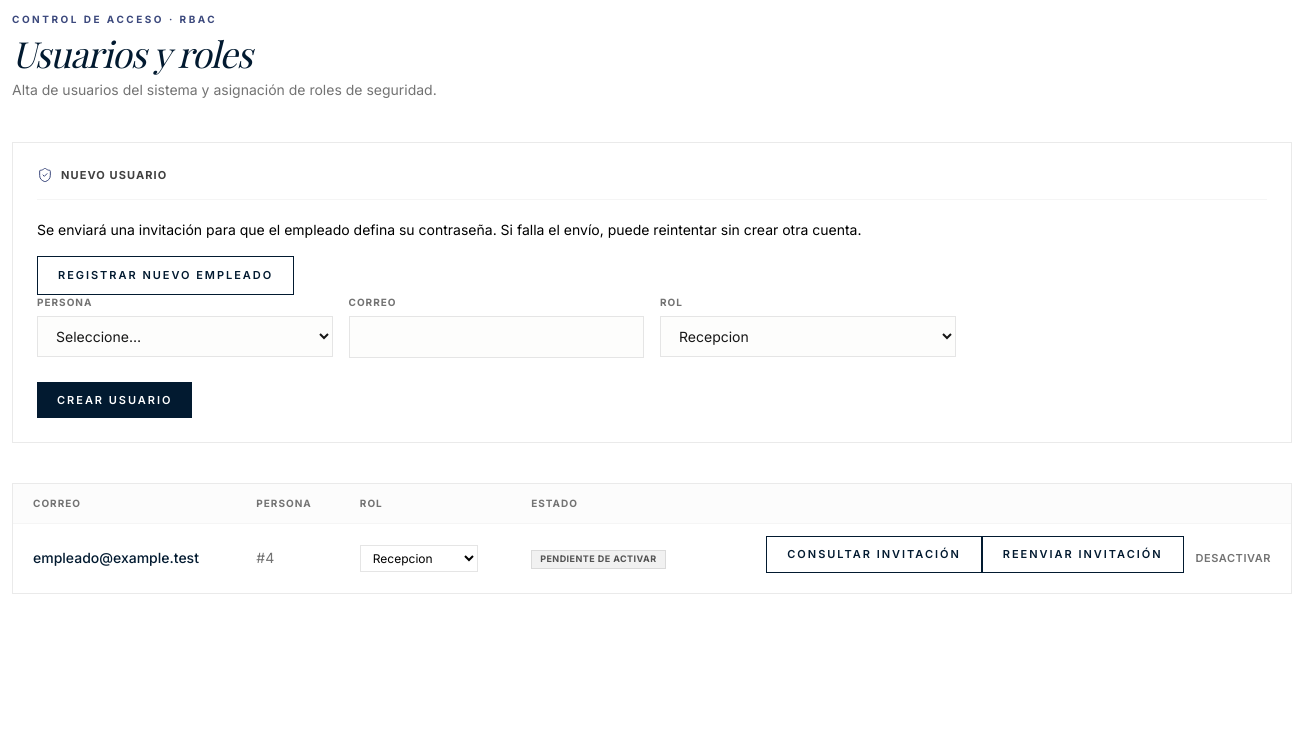
Test case: Administración invita al personal sin definir contraseñas › consulta estado y reenvía invitación sin crear otra cuenta
The image size is (1292, 732).
Click the button "Consultar invitación". click: point(874, 554)
box: [766, 536, 982, 573]
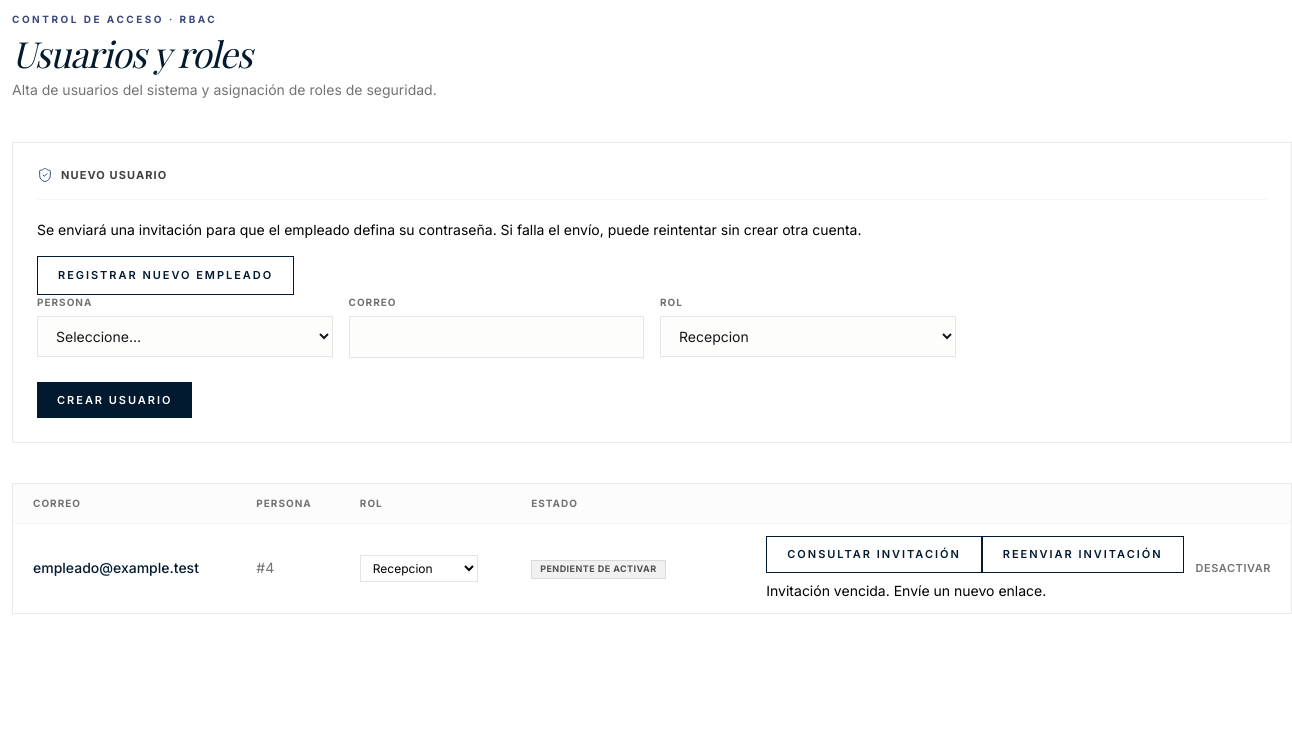
Expected: the text "Invitación vencida. Envíe un nuevo enlace." is shown, [766, 582, 1046, 599]
Click the button "Reenviar invitación". click: point(1083, 554)
box: [982, 536, 1184, 573]
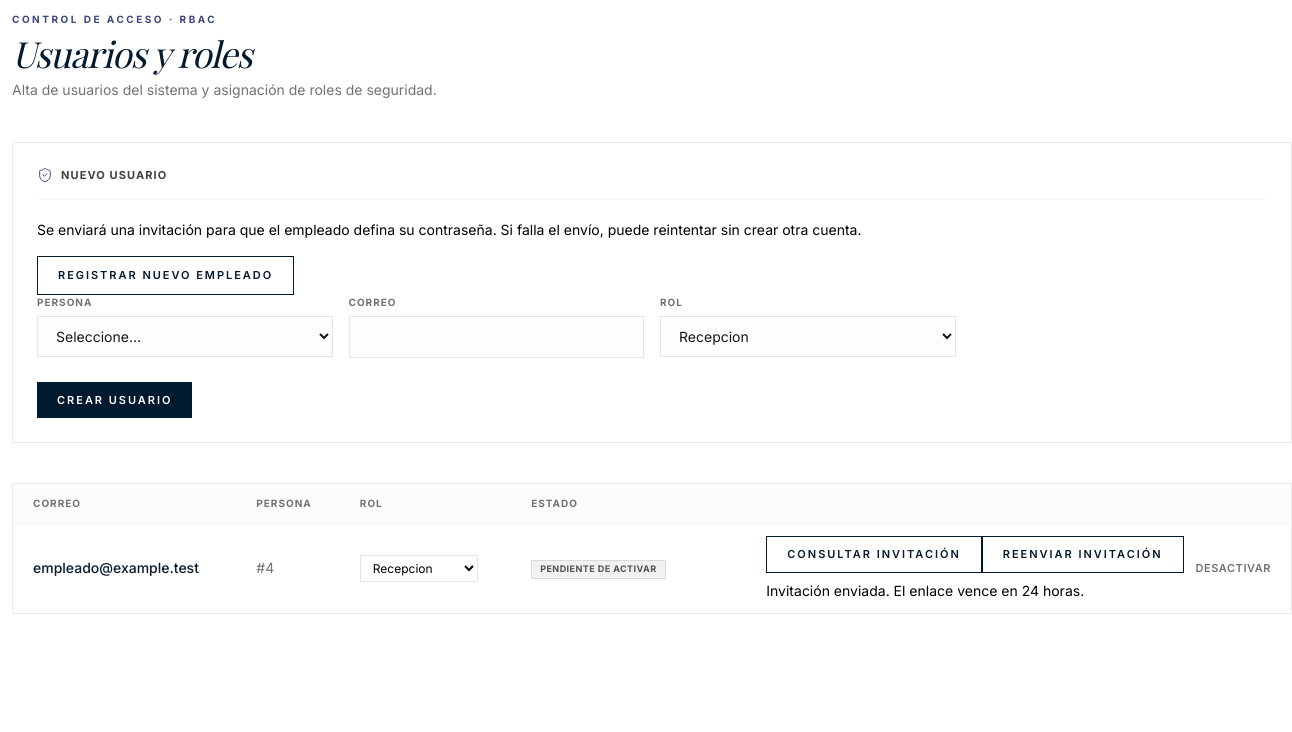
Expected: the text "Invitación enviada. El enlace vence en 24 horas." is shown, [766, 582, 1084, 599]
